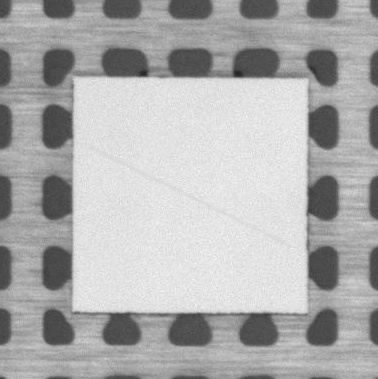DIE_CRACK: (90, 147, 290, 247)
